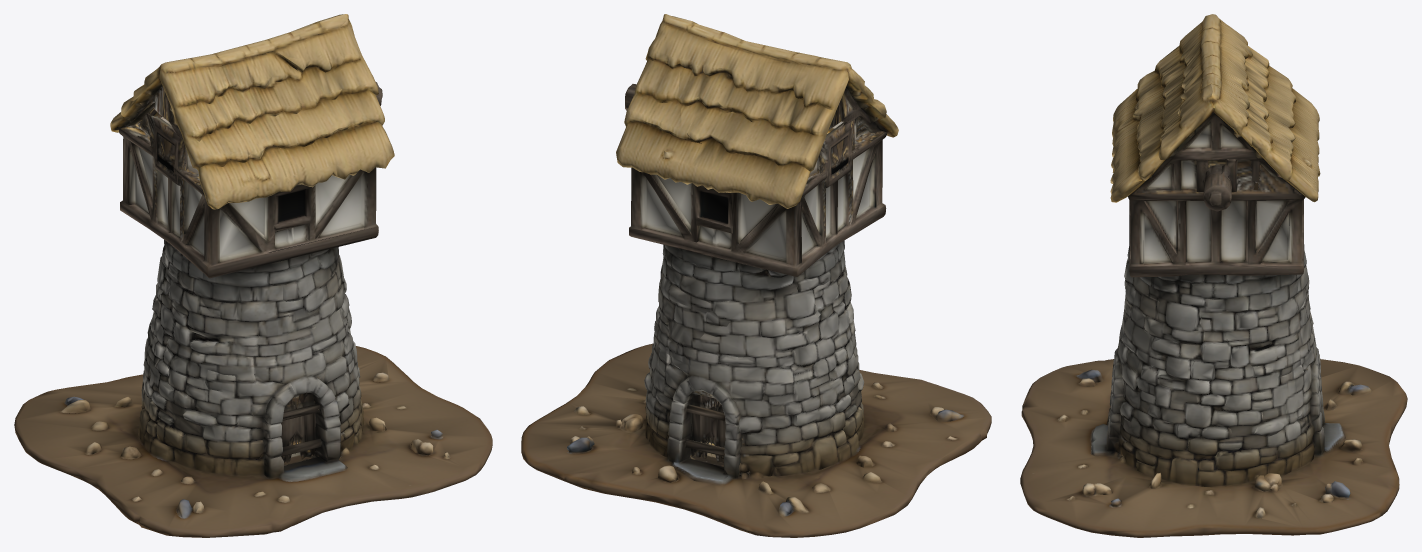
The picture shows the model from 3 angles, left to right: view 1: azimuth 30°, elevation 25°; view 2: azimuth 150°, elevation 25°; view 3: azimuth 270°, elevation 25°; orthographic projection.
Visible parts, largest first — view 1: repaired; view 2: repaired; view 3: repaired.
Boxes of the visible parts, x1=… form: repaired: x1=14, y1=14, x2=492, y2=537; repaired: x1=521, y1=14, x2=991, y2=537; repaired: x1=1020, y1=14, x2=1407, y2=537.
Bounding box in the file's own units: 0.9537 × 1 × 0.8757.
Materials: 1 (1 with a texture image).
